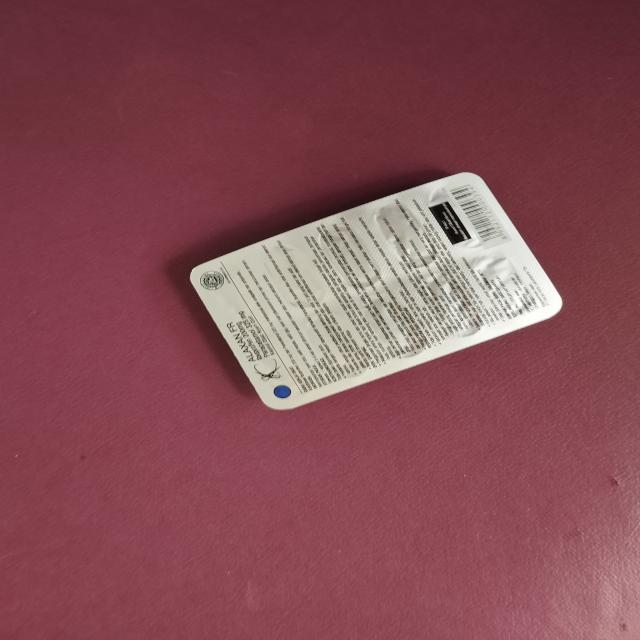B3: (192, 174, 563, 410)
